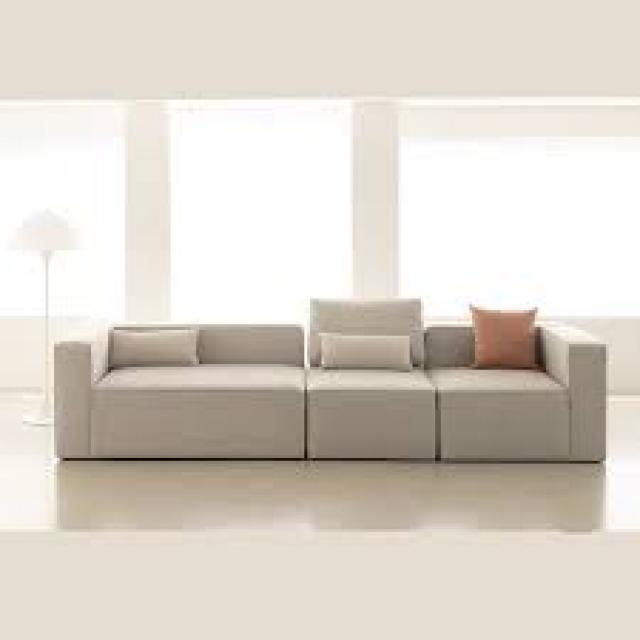Sofa: (27, 281, 629, 495)
